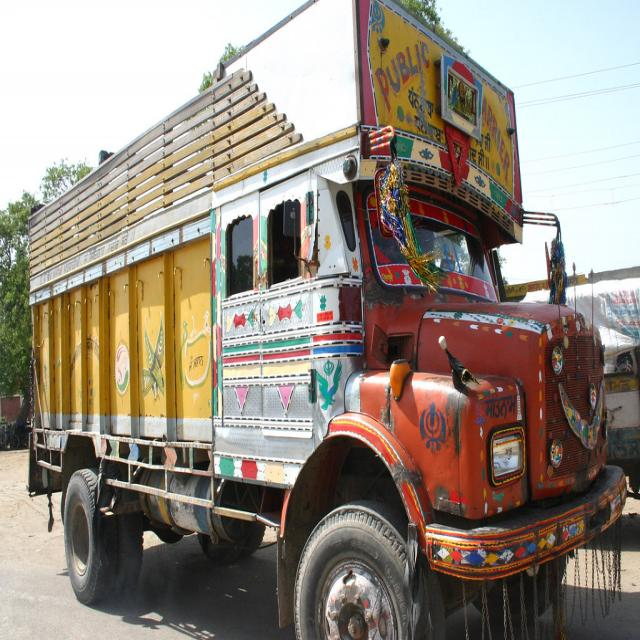Truck: (33, 27, 625, 640)
